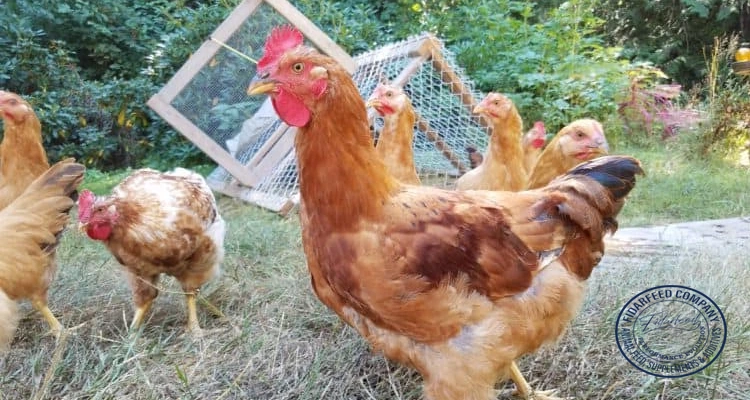Healthy: (235, 12, 382, 173), (62, 173, 142, 259), (462, 79, 536, 153)
